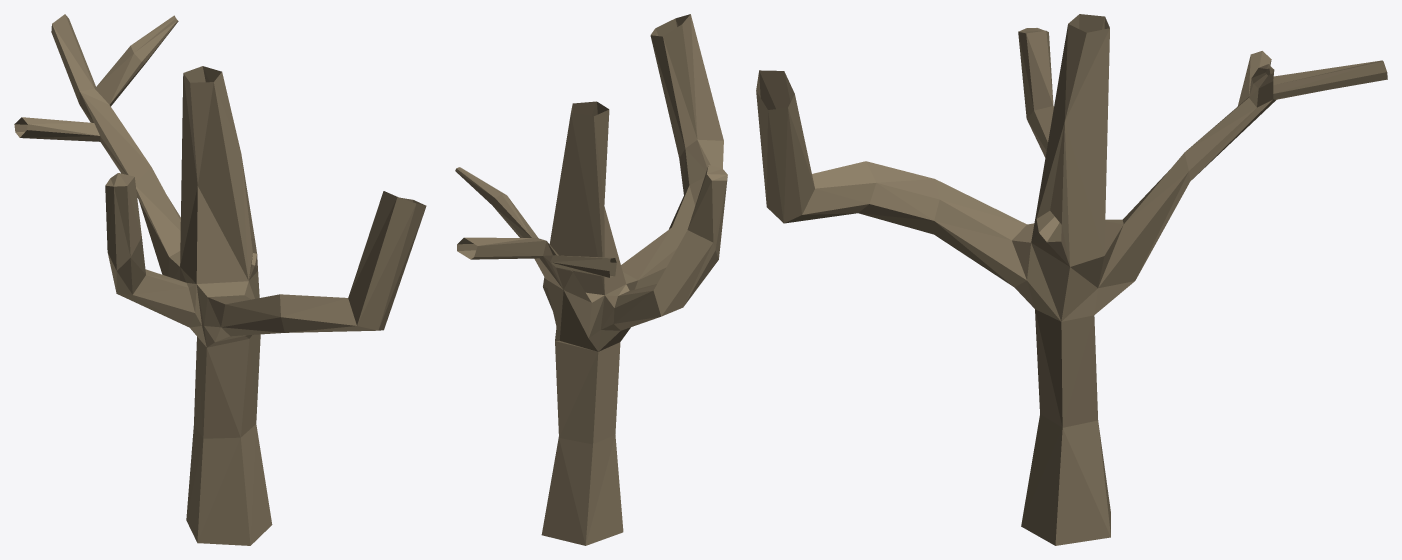
Rendered from Apple_7_1.fbx.
The picture shows the model from 3 angles, left to right: view 1: azimuth 30°, elevation 25°; view 2: azimuth 150°, elevation 25°; view 3: azimuth 270°, elevation 25°; orthographic projection. The views are drawn at different scales.
Parts seen in each view (by area): view 1: Apple_7_1; view 2: Apple_7_1; view 3: Apple_7_1.
Boxes of the visible parts, x1,y1,x2,y2 form: Apple_7_1: (14,14,426,545); Apple_7_1: (455,14,727,545); Apple_7_1: (756,14,1387,545).
Bounding box in the file's own units: 122 × 266 × 309.
